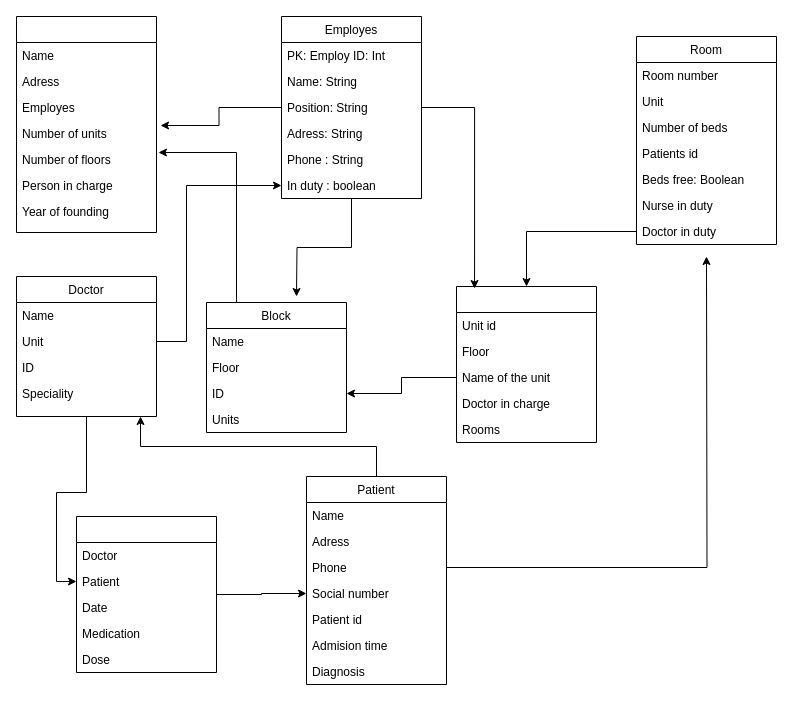
Image size: 793x701. Some labels were removed from this diagram. The shapes that lost their labels are listed below. From the top down, each one's box as (x1, y1, x2, y2) in pixels, then its label:
(16, 16, 156, 232): Hospital
(456, 286, 596, 442): Hospital unit
(76, 516, 216, 672): Prescribers
